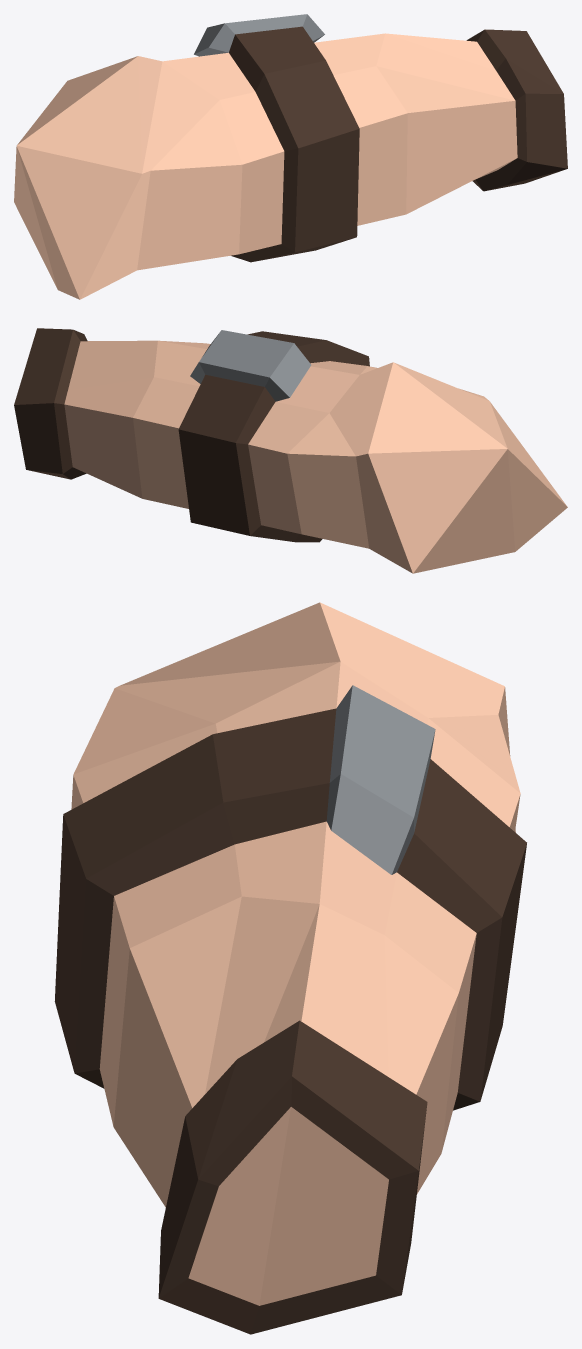
Rendered from Chr_ArmUpperLeft_Female_16_Static.fbx.
3 views of the same model, one above another, from view 1: azimuth 30°, elevation 25°; view 2: azimuth 150°, elevation 25°; view 3: azimuth 270°, elevation 25° (orthographic). The views are drawn at different scales.
Parts seen in each view (by area): view 1: Chr_ArmUpperLeft_Female_16_Static; view 2: Chr_ArmUpperLeft_Female_16_Static; view 3: Chr_ArmUpperLeft_Female_16_Static.
Part boxes in pixels (left/top/right/bottom): Chr_ArmUpperLeft_Female_16_Static: left=14, top=14, right=567, bottom=299; Chr_ArmUpperLeft_Female_16_Static: left=14, top=328, right=567, bottom=573; Chr_ArmUpperLeft_Female_16_Static: left=54, top=602, right=526, bottom=1334.
Size of the model in its own units: 0.3536 by 0.1464 by 0.1475.
